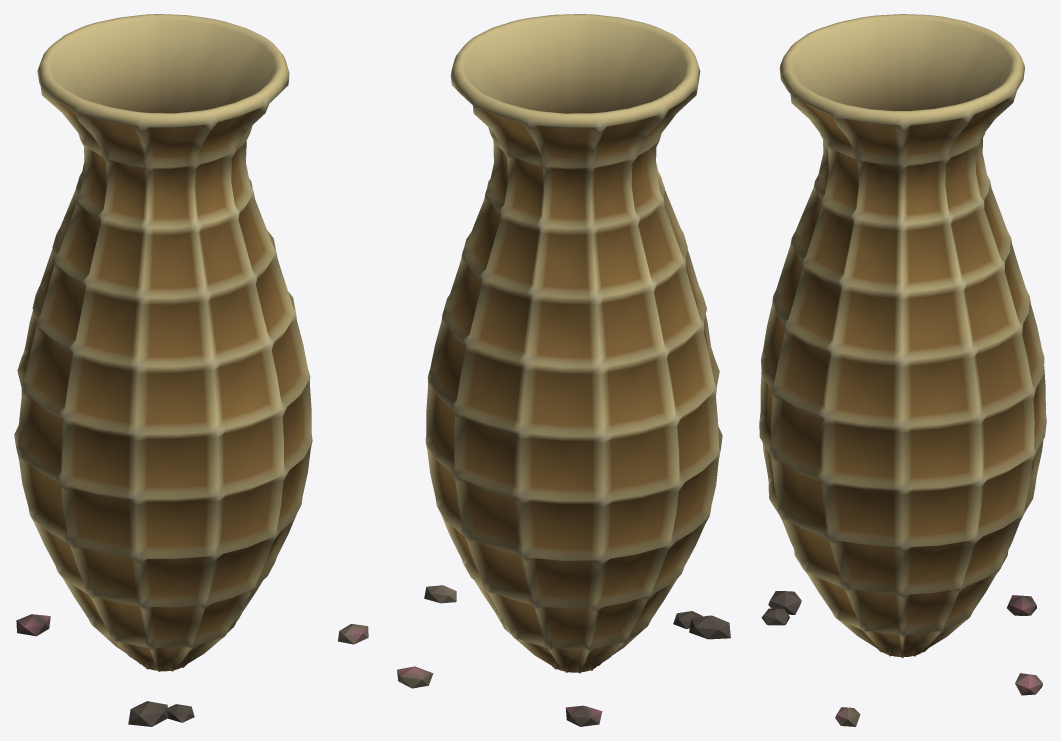
File: ProtospongiaRhenana.fbx
3 renders of one model, left to right at view 1: azimuth 30°, elevation 25°; view 2: azimuth 150°, elevation 25°; view 3: azimuth 270°, elevation 25°, orthographic. The views are drawn at different scales.
Parts seen in each view (by area): view 1: ProtospongiaRhenana; view 2: ProtospongiaRhenana; view 3: ProtospongiaRhenana.
Part boxes in pixels (x1,y1,x2,y2): ProtospongiaRhenana: (14,14,368,726); ProtospongiaRhenana: (397,14,730,726); ProtospongiaRhenana: (759,14,1046,726).
Size of the model in its own units: 0.9723 by 1.83 by 0.8118.
